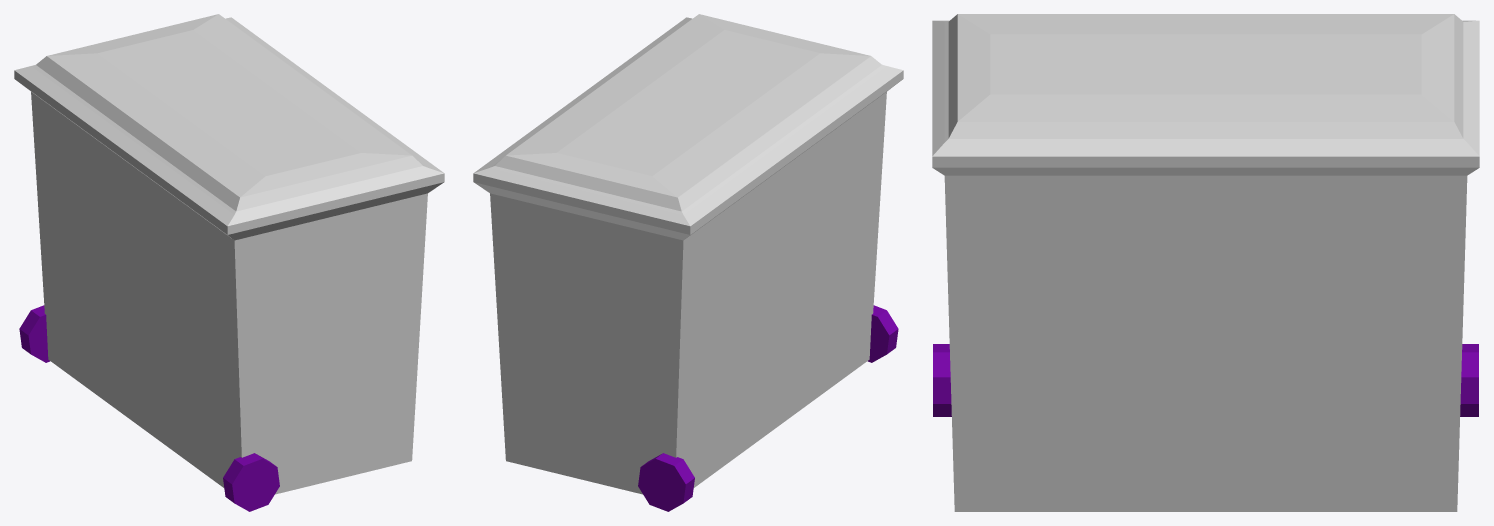
Rendered from Muelltonne_Lang.fbx.
The picture shows the model from 3 angles, left to right: view 1: azimuth 30°, elevation 25°; view 2: azimuth 150°, elevation 25°; view 3: azimuth 270°, elevation 25°; orthographic projection. The views are drawn at different scales.
Visible parts, largest first — view 1: Muelltonne_Lang:Muelltonne_Lang1; view 2: Muelltonne_Lang:Muelltonne_Lang1; view 3: Muelltonne_Lang:Muelltonne_Lang1.
Part boxes in pixels (x1=…): Muelltonne_Lang:Muelltonne_Lang1: x1=14, y1=14, x2=444, y2=511; Muelltonne_Lang:Muelltonne_Lang1: x1=473, y1=14, x2=903, y2=511; Muelltonne_Lang:Muelltonne_Lang1: x1=932, y1=14, x2=1479, y2=511.
Bounding box in the file's own units: 75.59 × 103 × 129.
